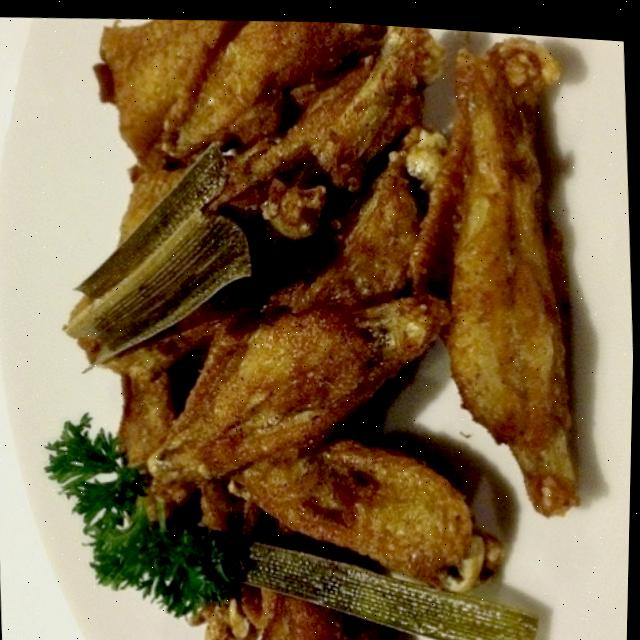鸡肉料理 含炸鸡: (7, 1, 627, 640)
